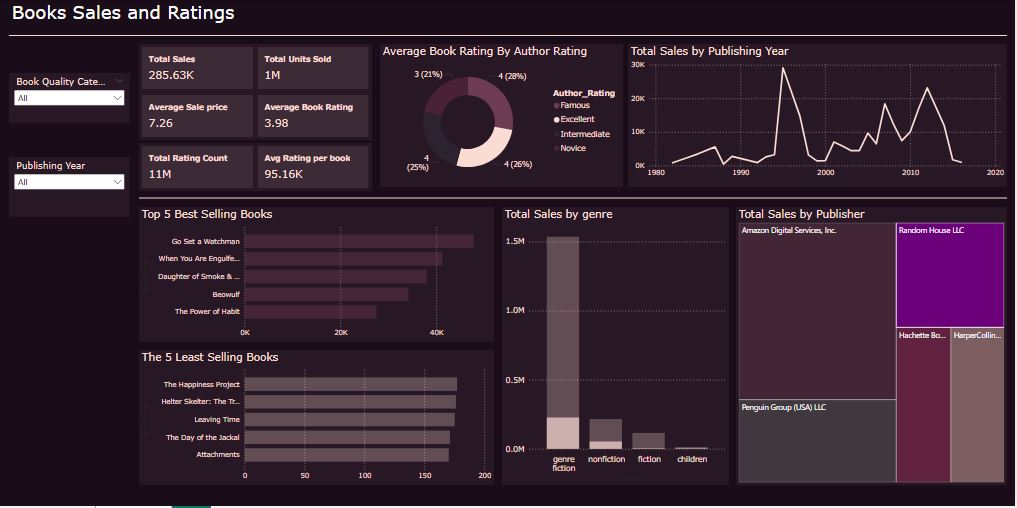

Layout of this report page (visuals, bound fields, positions):
{"tool":"powerbi","page":{"name":"Page 1","canvas":[1800,900],"ordinal":0},"visuals":[{"type":"textbox","box":[18.1,0,435.5,68.2],"z":0},{"type":"cardVisual","fields":{"Data":["Books_Data_Clean.Total Sales","Books_Data_Clean.Total Units Sold"]},"box":[248,81.5,412.8,85],"z":1000},{"type":"shape","box":[18.1,36.1,1767.9,62.2],"z":2000},{"type":"cardVisual","fields":{"Data":["Books_Data_Clean.Average Sale price","Books_Data_Clean.Average Book Rating"]},"box":[248,166.5,412.8,85],"z":3000},{"type":"clusteredBarChart","title":"Top 5 Best Selling Books","fields":{"Category":["Books_Data_Clean.Book Name"],"Y":["Sum(Books_Data_Clean.gross sales)"]},"box":[247.3,369.9,629,239.3],"z":4000},{"type":"lineChart","fields":{"Category":["Books_Data_Clean.Publishing Year"],"Y":["Books_Data_Clean.Total Sales"]},"box":[1114.4,81.5,671.5,253.3],"z":5000},{"type":"donutChart","title":"Average Book Rating By Author Rating","fields":{"Category":["Books_Data_Clean.Author_Rating"],"Y":["Books_Data_Clean.Average Book Rating"]},"box":[675,81.5,430.5,253.3],"z":6000},{"type":"clusteredColumnChart","fields":{"Y":["Books_Data_Clean.Total Sales"],"Category":["Books_Data_Clean.genre"]},"box":[891.1,370.3,402.2,492.5],"z":7000},{"type":"cardVisual","fields":{"Data":["Books_Data_Clean.Total Rating Count","Books_Data_Clean.Avg Rating per book"]},"box":[248,256.9,412.8,85],"z":8000},{"type":"shape","box":[248,322.4,1537.8,63.8],"z":9000},{"type":"clusteredBarChart","title":"The 5 Least Selling Books","fields":{"Category":["Books_Data_Clean.Book Name"],"Y":["Sum(Books_Data_Clean.gross sales)"]},"box":[247.3,623.1,629,239.3],"z":10000},{"type":"treemap","fields":{"Group":["Books_Data_Clean.Publisher "],"Values":["Books_Data_Clean.Total Sales"]},"box":[1305.7,370.3,480.1,492.5],"z":11000},{"type":"slicer","fields":{"Values":["Books_Data_Clean.Book Quality Category"]},"box":[17.7,132.9,214.4,88.6],"z":11001},{"type":"slicer","fields":{"Values":["Books_Data_Clean.Publishing Year"]},"box":[17.7,281.7,214.4,106.3],"z":11002}]}

Visuals, with their boxes in screenshot pixels (x1, y1, x2, y2), scaled from the page's 1800x900 canvas onto the 1017x508 screenshot:
textbox: 10 0 256 38
cardVisual - Books_Data_Clean.Total Sales x Books_Data_Clean.Total Units Sold: 140 46 373 94
shape: 10 20 1009 55
cardVisual - Books_Data_Clean.Average Sale price x Books_Data_Clean.Average Book Rating: 140 94 373 142
"Top 5 Best Selling Books" clusteredBarChart: 140 209 495 344
lineChart - Books_Data_Clean.Publishing Year x Books_Data_Clean.Total Sales: 630 46 1009 189
"Average Book Rating By Author Rating" donutChart: 381 46 625 189
clusteredColumnChart - Books_Data_Clean.Total Sales x Books_Data_Clean.genre: 503 209 731 487
cardVisual - Books_Data_Clean.Total Rating Count x Books_Data_Clean.Avg Rating per book: 140 145 373 193
shape: 140 182 1009 218
"The 5 Least Selling Books" clusteredBarChart: 140 352 495 487
treemap - Books_Data_Clean.Publisher  x Books_Data_Clean.Total Sales: 738 209 1009 487
slicer - Books_Data_Clean.Book Quality Category: 10 75 131 125
slicer - Books_Data_Clean.Publishing Year: 10 159 131 219
